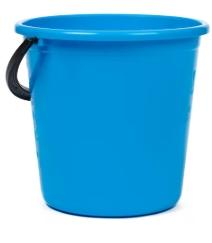SEAU: (0, 9, 212, 243)
